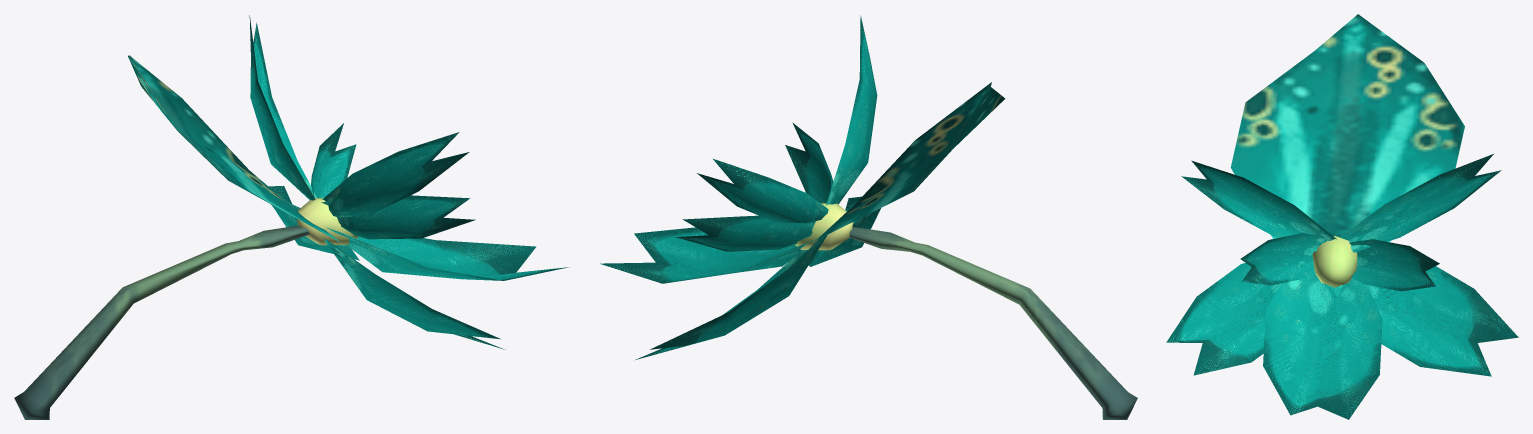
File: flowerTeal.fbx
3 renders of one model, left to right at view 1: azimuth 30°, elevation 25°; view 2: azimuth 150°, elevation 25°; view 3: azimuth 270°, elevation 25°, orthographic. The views are drawn at different scales.
Visible parts, largest first — view 1: flowerTeal; view 2: flowerTeal; view 3: flowerTeal.
Part boxes in pixels (x1=…): flowerTeal: x1=14, y1=15, x2=569, y2=419; flowerTeal: x1=600, y1=15, x2=1137, y2=419; flowerTeal: x1=1166, y1=14, x2=1518, y2=419.
Bounding box in the file's own units: 0.5525 × 0.3265 × 0.3828.
